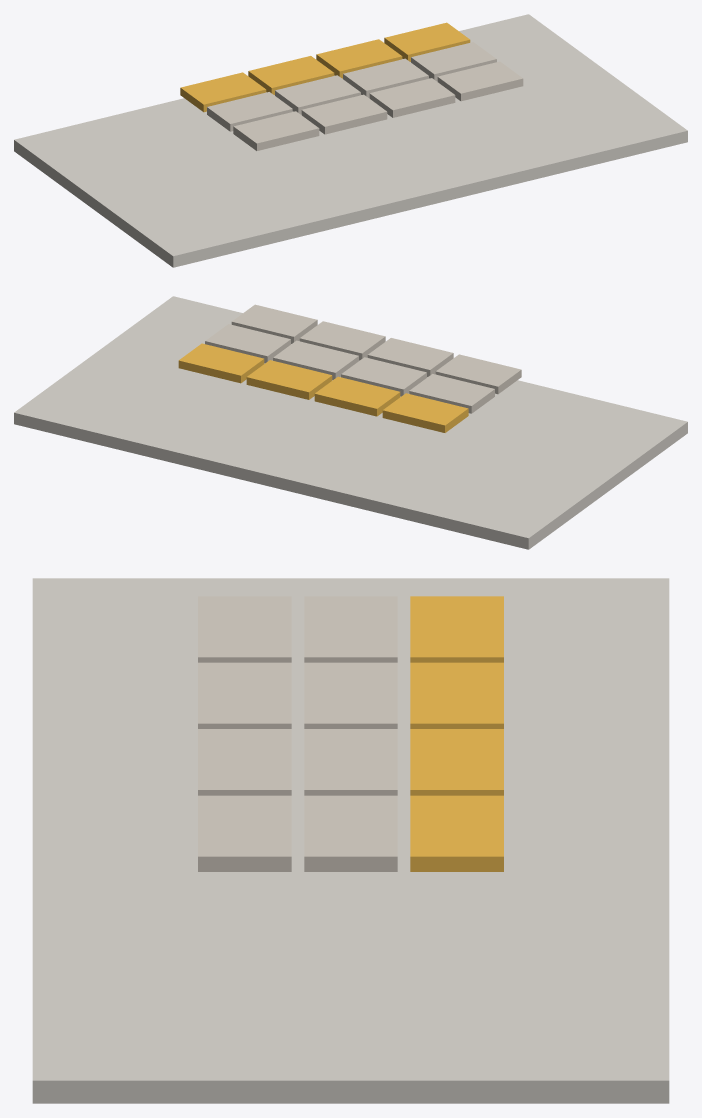
File: math-data-table.glb
The picture shows the model from 3 angles, top to bottom: view 1: azimuth 30°, elevation 25°; view 2: azimuth 150°, elevation 25°; view 3: azimuth 270°, elevation 25°; orthographic projection. The views are drawn at different scales.
Parts seen in each view (by area): view 1: manipulative-base, table-cell-2-0, table-cell-2-2, table-cell-2-3, table-cell-2-1, table-cell-0-0, table-cell-1-0, table-cell-0-2, table-cell-1-1, table-cell-0-1, table-cell-1-3, table-cell-0-3 (+1 smaller); view 2: manipulative-base, table-cell-0-0, table-cell-0-2, table-cell-0-3, table-cell-0-1, table-cell-2-0, table-cell-1-0, table-cell-2-2, table-cell-1-1, table-cell-1-3, table-cell-2-1, table-cell-1-2 (+1 smaller); view 3: manipulative-base, table-cell-0-3, table-cell-1-3, table-cell-2-3, table-cell-0-0, table-cell-0-1, table-cell-0-2, table-cell-1-0, table-cell-1-1, table-cell-1-2, table-cell-2-0, table-cell-2-1 (+1 smaller).
Part boxes in pixels (x1,y1,x2,y2): manipulative-base: (14,14,687,267); table-cell-2-0: (233,111,319,150); table-cell-2-2: (369,78,455,117); table-cell-2-3: (437,61,523,101); table-cell-2-1: (301,94,387,134); table-cell-0-0: (180,72,266,112); table-cell-1-0: (207,92,292,131); table-cell-0-2: (316,39,402,78); table-cell-1-1: (275,75,360,114); table-cell-0-1: (248,56,334,94); table-cell-1-3: (411,42,496,81); table-cell-0-3: (384,22,470,61); manipulative-base: (14,296,687,549); table-cell-0-0: (382,393,468,432); table-cell-0-2: (246,360,332,399); table-cell-0-3: (178,343,264,383); table-cell-0-1: (314,376,400,416); table-cell-2-0: (435,354,521,394); table-cell-1-0: (409,374,494,413); table-cell-2-2: (299,321,385,360); table-cell-1-1: (341,357,426,396); table-cell-1-3: (205,324,290,363); table-cell-2-1: (367,338,453,376); table-cell-1-2: (273,340,358,379); manipulative-base: (32,578,669,1103); table-cell-0-3: (410,795,503,871); table-cell-1-3: (304,795,397,871); table-cell-2-3: (198,795,291,871); table-cell-0-0: (410,596,503,662); table-cell-0-1: (410,662,503,728); table-cell-0-2: (410,729,503,795); table-cell-1-0: (304,596,397,662); table-cell-1-1: (304,662,397,728); table-cell-1-2: (304,729,397,795); table-cell-2-0: (198,596,291,662); table-cell-2-1: (198,662,291,728).
Size of what is drawn, in the model's own units: 2.8 by 0.33 by 1.5.
